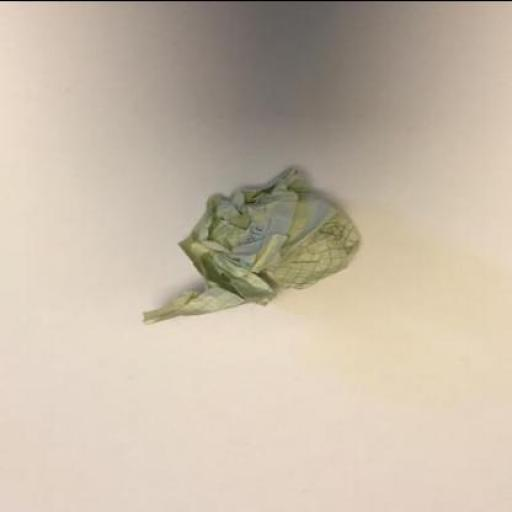paper: (144, 166, 364, 324)
